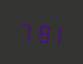eight: (34, 19, 48, 44)
one: (49, 20, 63, 45)
seven: (18, 18, 32, 43)
